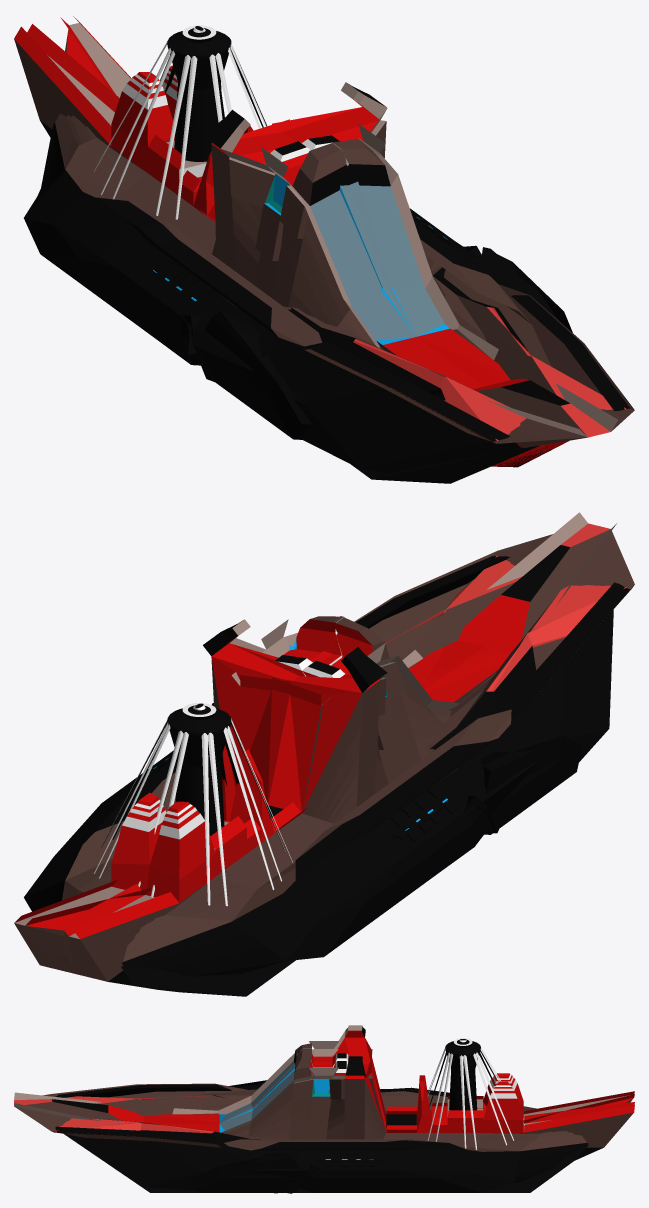
File: gemi_son.i.fbx
3 views of the same model, one above another, from view 1: azimuth 30°, elevation 25°; view 2: azimuth 150°, elevation 25°; view 3: azimuth 270°, elevation 25° (orthographic). The views are drawn at different scales.
Parts seen in each view (by area): view 1: gemi; view 2: gemi; view 3: gemi.
Part boxes in pixels (left/top/right/bottom): gemi: left=14, top=16, right=634, bottom=483; gemi: left=14, top=512, right=634, bottom=996; gemi: left=14, top=1025, right=634, bottom=1193.
Size of the model in its own units: 1060 by 787 by 3306.
2 materials, 2 textured.
